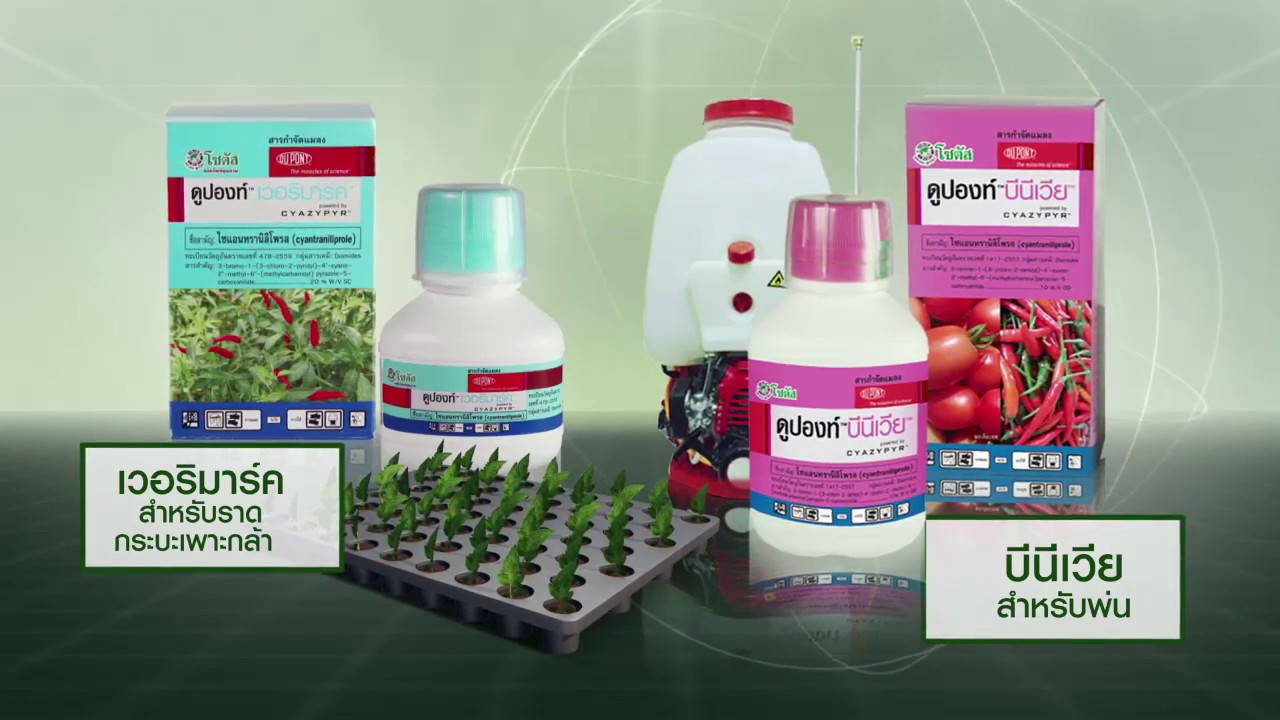Insecticide: (734, 191, 936, 559), (369, 178, 579, 482)
